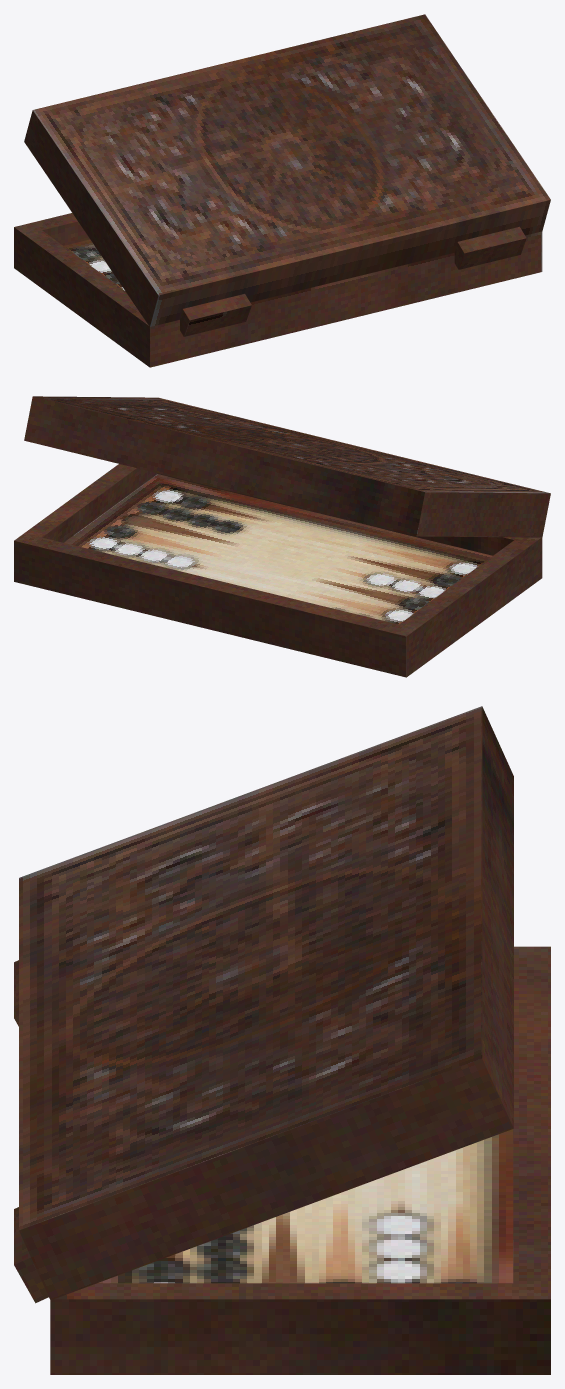
The model's file is nards.glb.
3 views of the same model, one above another, from view 1: azimuth 30°, elevation 25°; view 2: azimuth 150°, elevation 25°; view 3: azimuth 270°, elevation 25° (orthographic). The views are drawn at different scales.
Visible parts, largest first — view 1: nards; view 2: nards; view 3: nards.
Boxes of the visible parts, x1,y1,x2,y2 form: nards: (14,14,550,367); nards: (14,396,550,677); nards: (14,706,550,1374).
Size of the model in its own units: 0.9499 by 0.3972 by 0.6114.
1 material, 1 textured.
